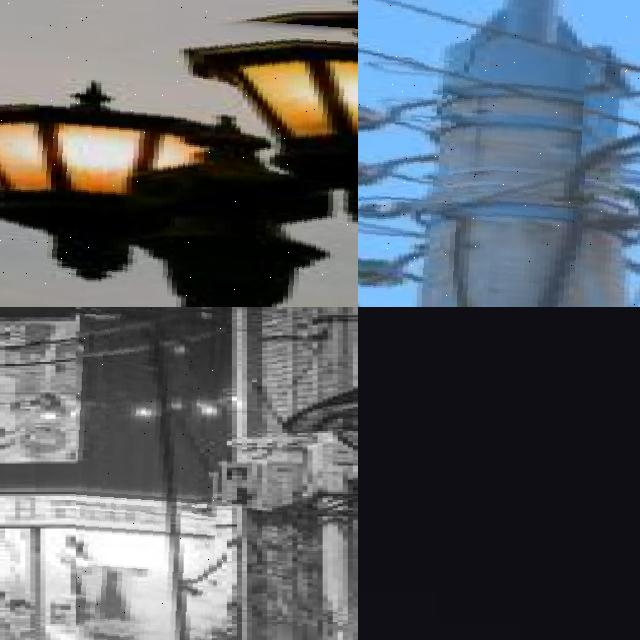street light: (0, 0, 358, 307), (358, 0, 640, 307), (76, 307, 227, 640), (522, 307, 640, 640)
